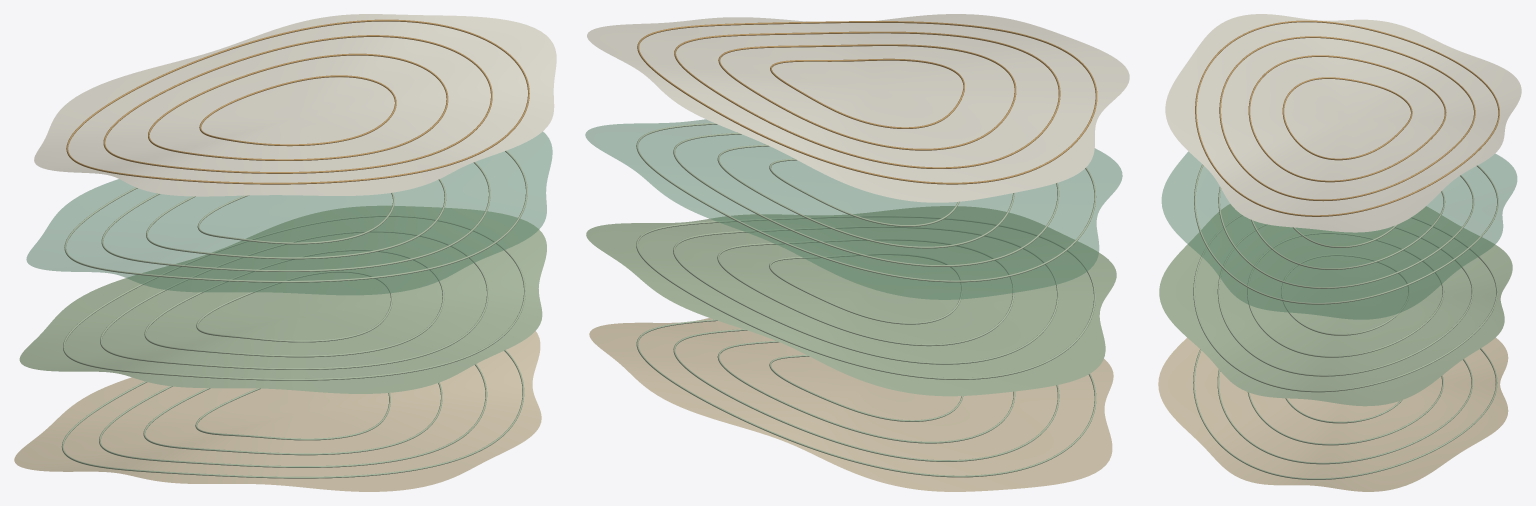
File: strata.glb
The picture shows the model from 3 angles, left to right: view 1: azimuth 30°, elevation 25°; view 2: azimuth 150°, elevation 25°; view 3: azimuth 270°, elevation 25°; orthographic projection. The views are drawn at different scales.
Visible parts, largest first — view 1: Mineral stratum 3, Mineral stratum 1, Mineral stratum 2, Mineral stratum 0, Contour incision.015, Contour incision.007, Contour incision.014, Contour incision.006, Contour incision.013, Contour incision.003, Contour incision.011, Contour incision.005 (+8 smaller); view 2: Mineral stratum 3, Mineral stratum 1, Mineral stratum 0, Mineral stratum 2, Contour incision.015, Contour incision.007, Contour incision.014, Contour incision.006, Contour incision.013, Contour incision.011, Contour incision.003, Contour incision.005 (+8 smaller); view 3: Mineral stratum 3, Mineral stratum 1, Mineral stratum 0, Mineral stratum 2, Contour incision.015, Contour incision.014, Contour incision.007, Contour incision.013, Contour incision.006, Contour incision.011, Contour incision.005, Contour incision.003 (+6 smaller).
Boxes of the visible parts, x1,y1,x2,y2 form: Mineral stratum 3: (34,14,556,196); Mineral stratum 1: (19,205,546,393); Mineral stratum 2: (26,131,552,295); Mineral stratum 0: (14,331,541,491); Contour incision.015: (66,19,529,184); Contour incision.007: (63,215,525,380); Contour incision.014: (103,35,492,173); Contour incision.006: (100,230,488,369); Contour incision.013: (148,53,448,160); Contour incision.003: (61,350,524,478); Contour incision.011: (64,150,527,282); Contour incision.005: (144,249,444,357); Mineral stratum 3: (587,14,1129,202); Mineral stratum 1: (586,206,1116,396); Mineral stratum 0: (589,318,1113,491); Mineral stratum 2: (585,119,1122,299); Contour incision.015: (637,21,1097,184); Contour incision.007: (636,215,1095,379); Contour incision.014: (674,31,1060,168); Contour incision.006: (673,226,1058,364); Contour incision.013: (718,44,1016,150); Contour incision.011: (636,123,1096,282); Contour incision.003: (636,319,1096,477); Contour incision.005: (717,238,1014,346); Mineral stratum 3: (1165,14,1521,232); Mineral stratum 1: (1159,204,1512,406); Mineral stratum 0: (1158,337,1508,491); Mineral stratum 2: (1161,151,1517,319); Contour incision.015: (1195,20,1499,216); Contour incision.014: (1219,36,1475,201); Contour incision.007: (1193,214,1497,392); Contour incision.013: (1248,55,1446,182); Contour incision.006: (1217,224,1473,376); Contour incision.011: (1194,164,1498,304); Contour incision.005: (1247,232,1444,357); Contour incision.003: (1193,348,1497,479).
Size of the model in its own units: 3.77 by 2.28 by 2.53.
